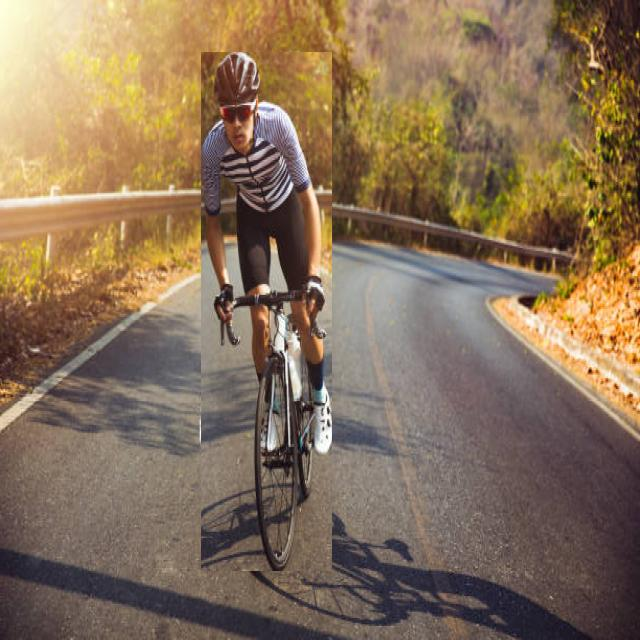bicycle: (201, 53, 331, 571)
